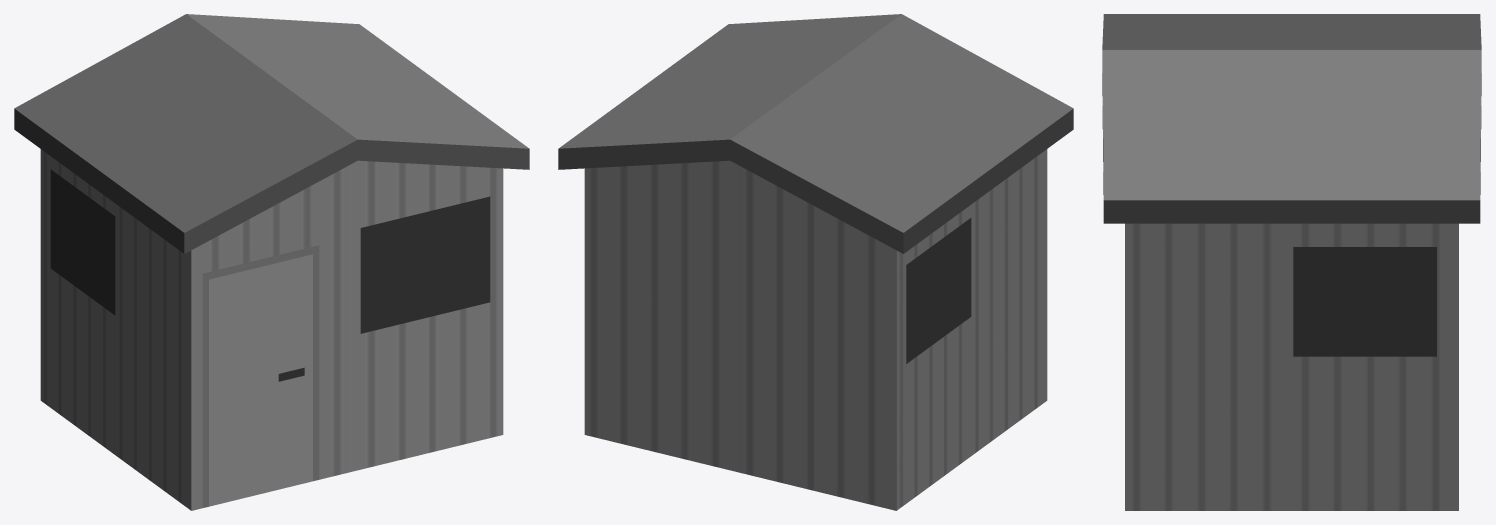
File: SM_GardenShed_Metal_01.fbx
The picture shows the model from 3 angles, left to right: view 1: azimuth 30°, elevation 25°; view 2: azimuth 150°, elevation 25°; view 3: azimuth 270°, elevation 25°; orthographic projection. The views are drawn at different scales.
Visible parts, largest first — view 1: SM_GardenShed_Metal_01; view 2: SM_GardenShed_Metal_01; view 3: SM_GardenShed_Metal_01.
Part boxes in pixels (x1,y1,x2,y2): SM_GardenShed_Metal_01: [14, 14, 529, 510]; SM_GardenShed_Metal_01: [558, 14, 1073, 510]; SM_GardenShed_Metal_01: [1102, 14, 1481, 510].
Bounding box in the file's own units: 4.62 × 4.36 × 3.98.
